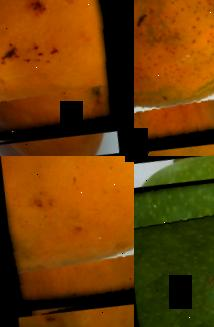PartiallyRipe: (0, 156, 134, 321)
Ripe: (0, 0, 131, 151), (134, 0, 214, 156)
Unripe: (134, 164, 214, 327)
